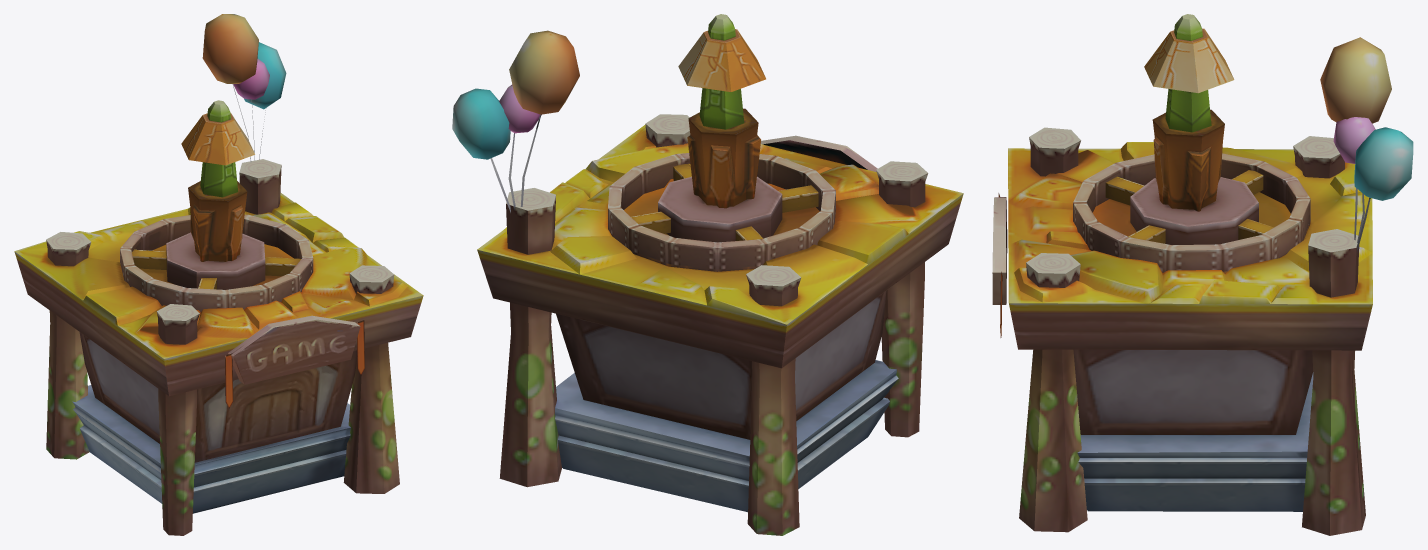
The model's file is Build001_b.FBX.
3 views of the same model, side by side, from view 1: azimuth 30°, elevation 25°; view 2: azimuth 150°, elevation 25°; view 3: azimuth 270°, elevation 25° (orthographic). The views are drawn at different scales.
Parts seen in each view (by area): view 1: Build001_b; view 2: Build001_b; view 3: Build001_b.
Part boxes in pixels (bbox=[...]): Build001_b: bbox=[14, 14, 423, 535]; Build001_b: bbox=[452, 14, 963, 535]; Build001_b: bbox=[992, 14, 1413, 535].
Size of the model in its own units: 33.98 by 37.26 by 45.71.
